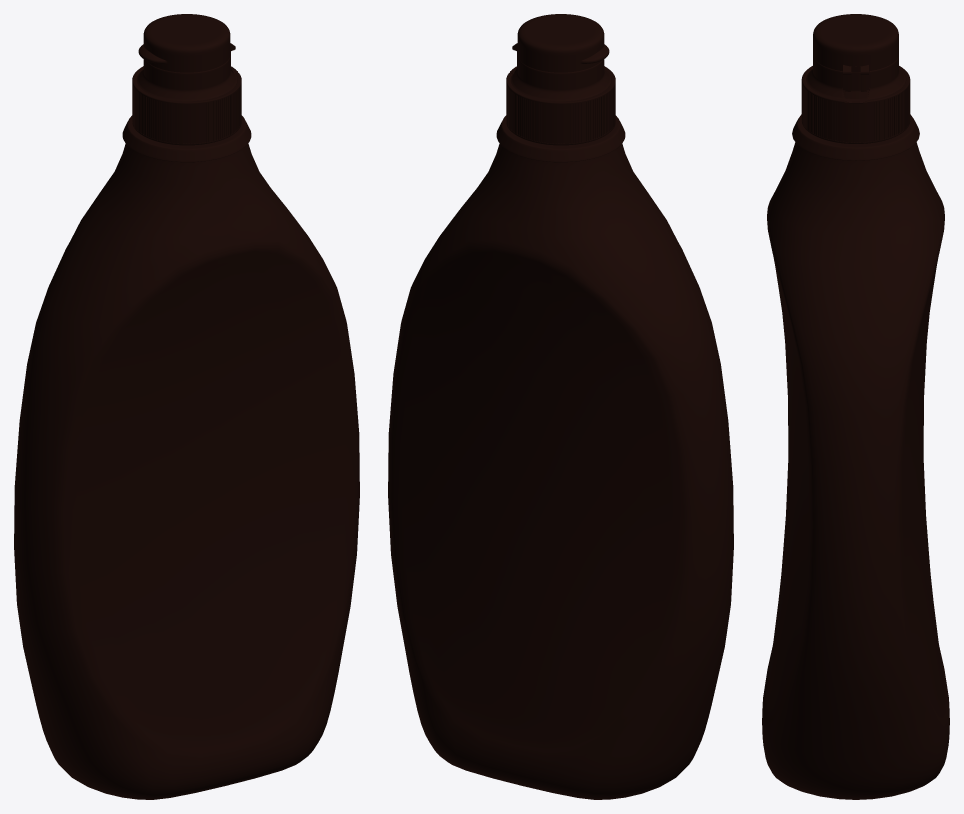
The model's file is chocsyrupbottle_closed.FBX.
3 views of the same model, side by side, from view 1: azimuth 30°, elevation 25°; view 2: azimuth 150°, elevation 25°; view 3: azimuth 270°, elevation 25° (orthographic).
Parts seen in each view (by area): view 1: bottle; view 2: bottle; view 3: bottle.
Boxes of the visible parts, bbox=[...] form: bottle: bbox=[14, 14, 359, 799]; bottle: bbox=[388, 14, 733, 799]; bottle: bbox=[762, 14, 949, 799].
Size of the model in its own units: 9.96 by 21.05 by 4.96.
